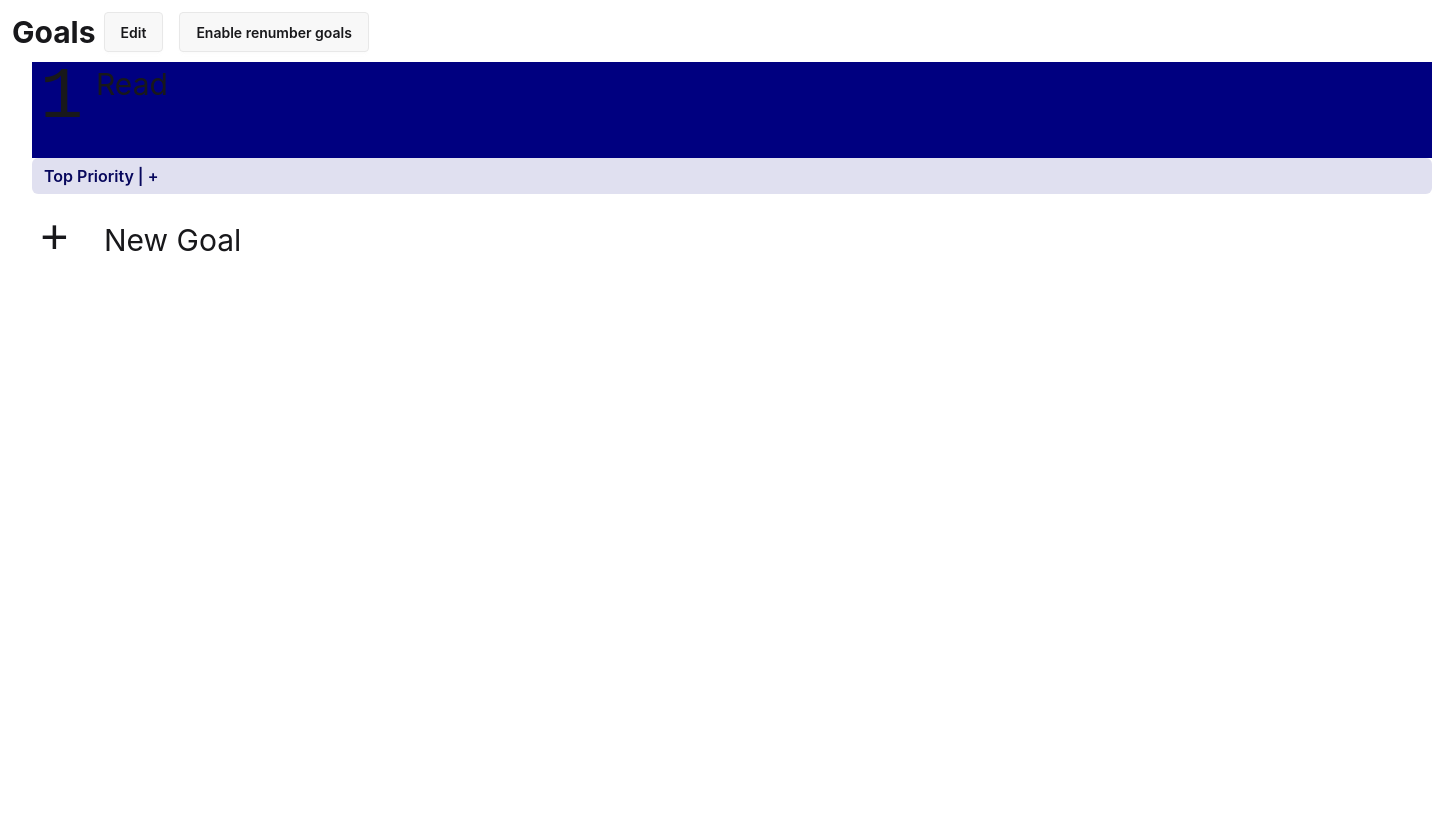
Scenario: creating a goal exits renumber mode and keeps page editing separate
Click the button "Enable renumber goals".
click(274, 32)  # box [179,12,369,52]
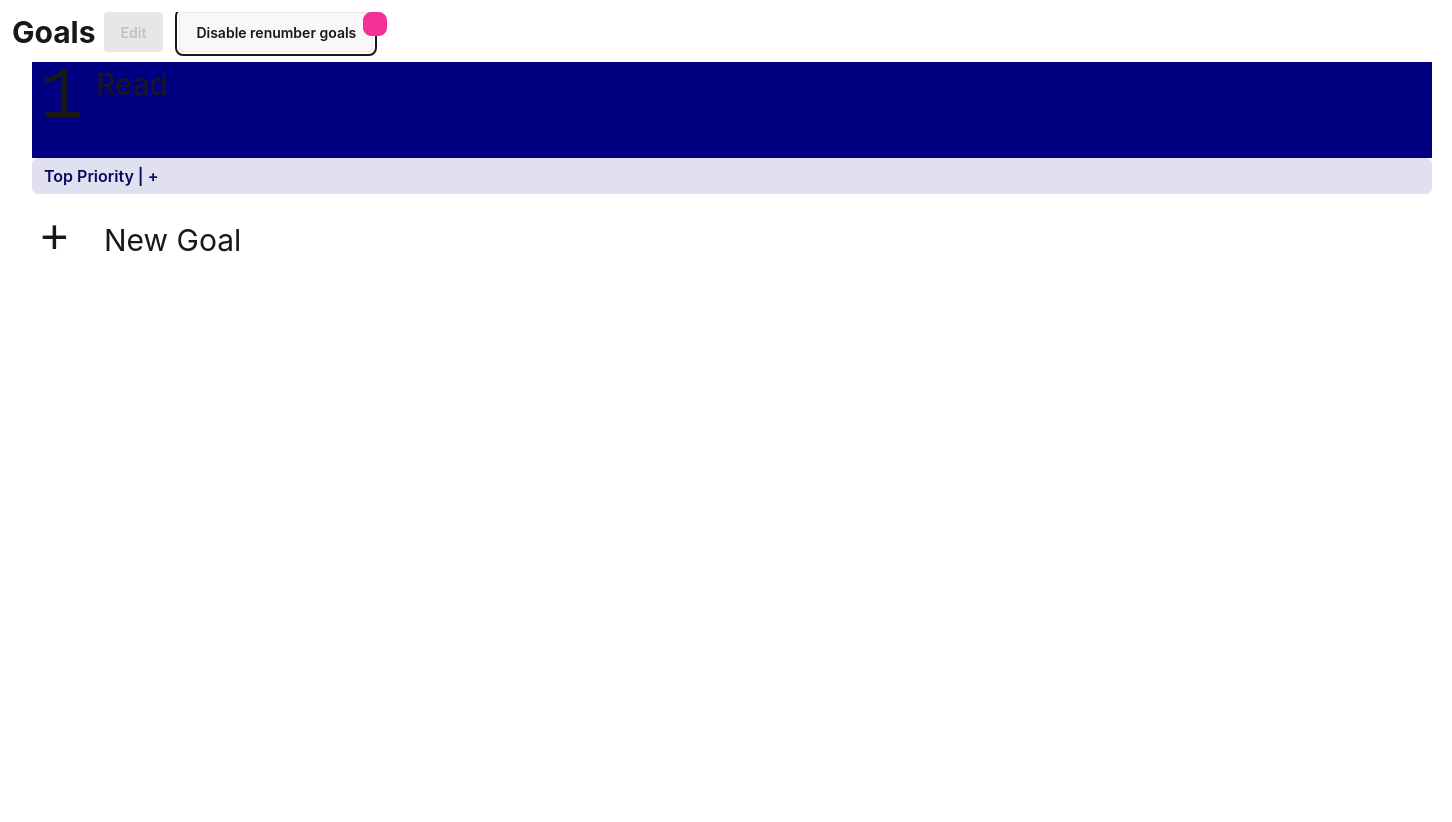
Click the button "+ New Goal".
click(173, 240)  # box [32,204,1432,276]
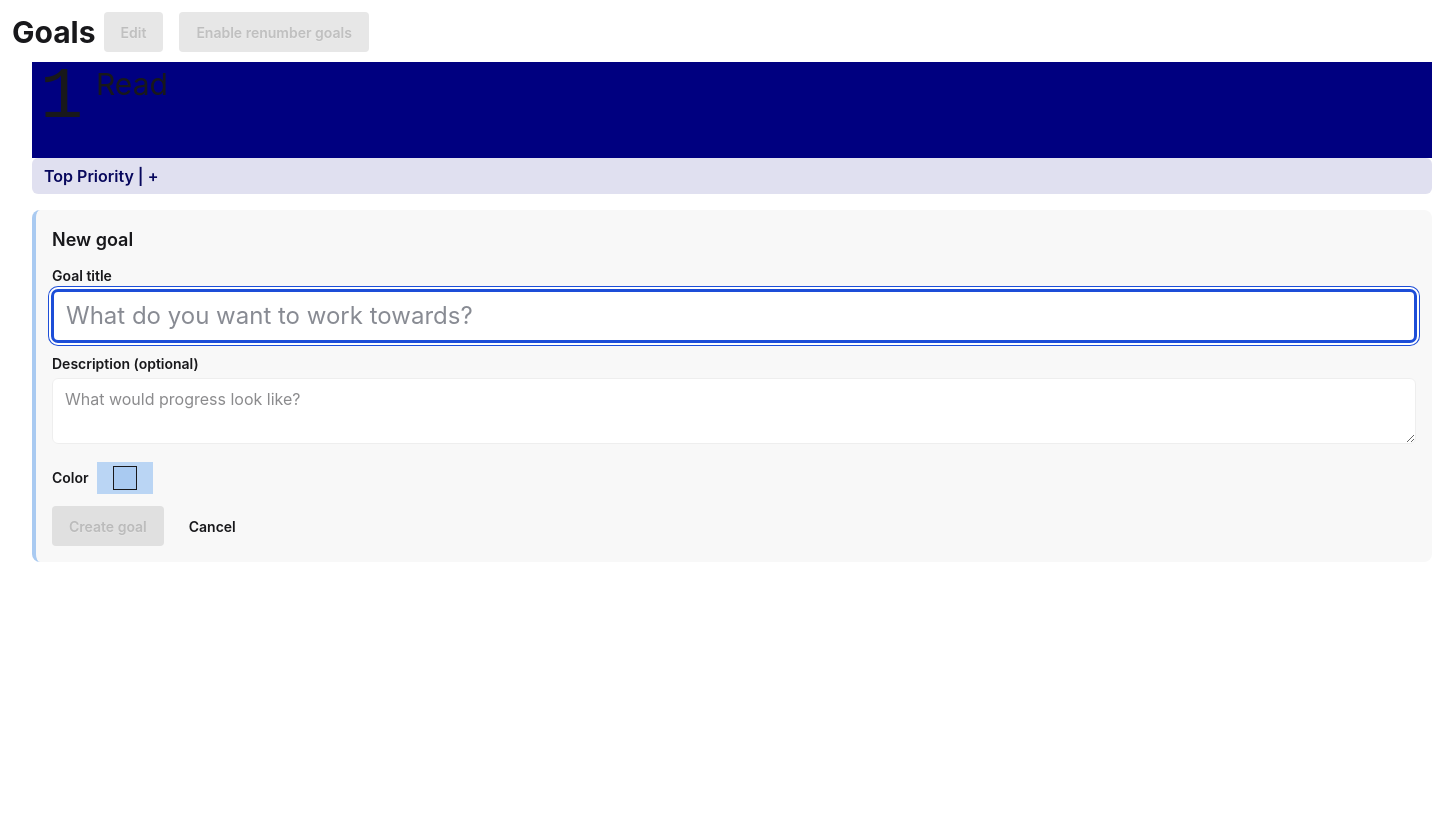
Check: the button "Edit" is disabled, box [104,12,163,52]
Check: the button "Enable renumber goals" is disabled, box [179,12,369,52]
Click the button "Cancel".
click(212, 526)  # box [172,506,253,546]
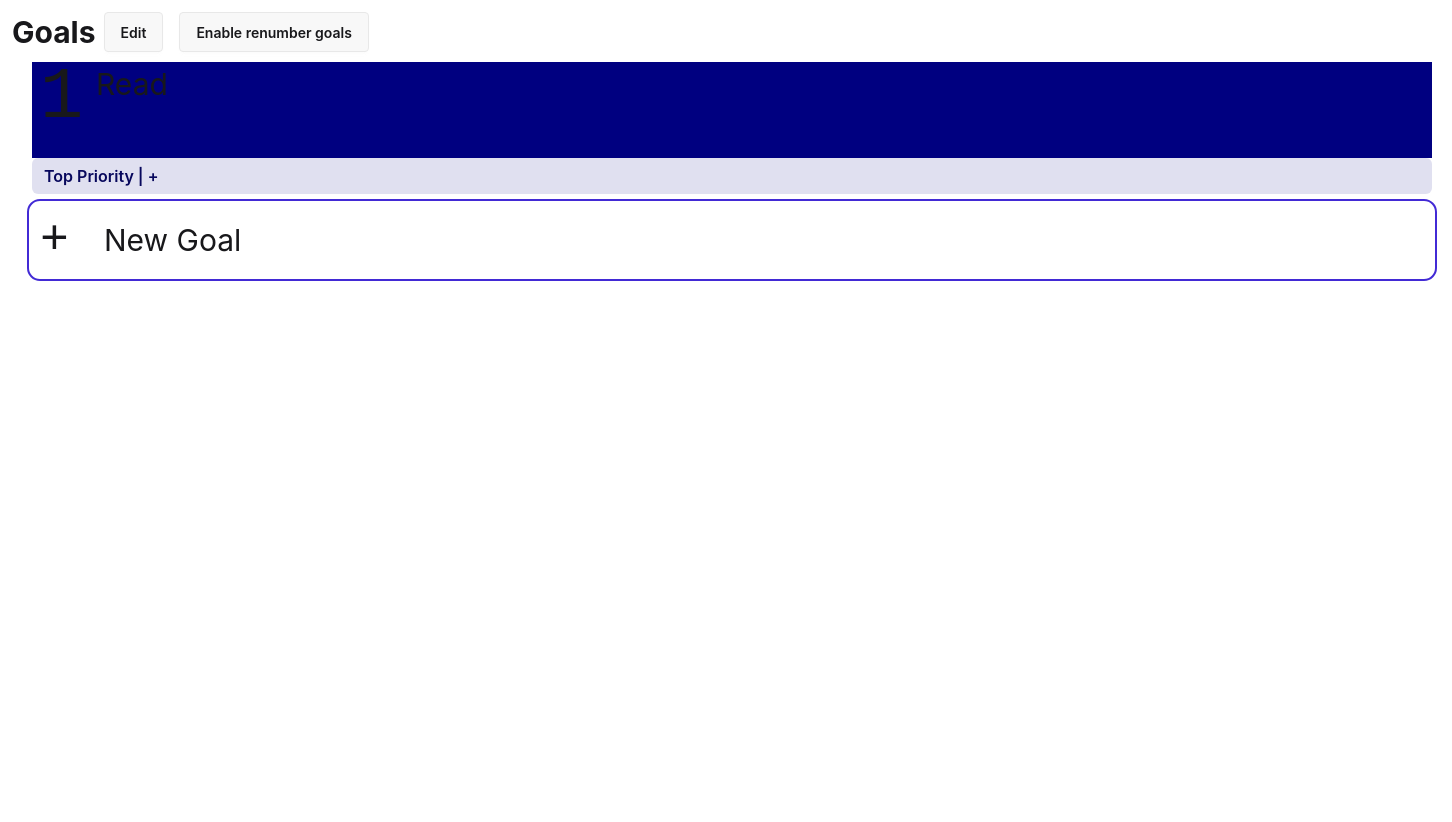
Click the button "Edit".
click(134, 32)  # box [104,12,163,52]
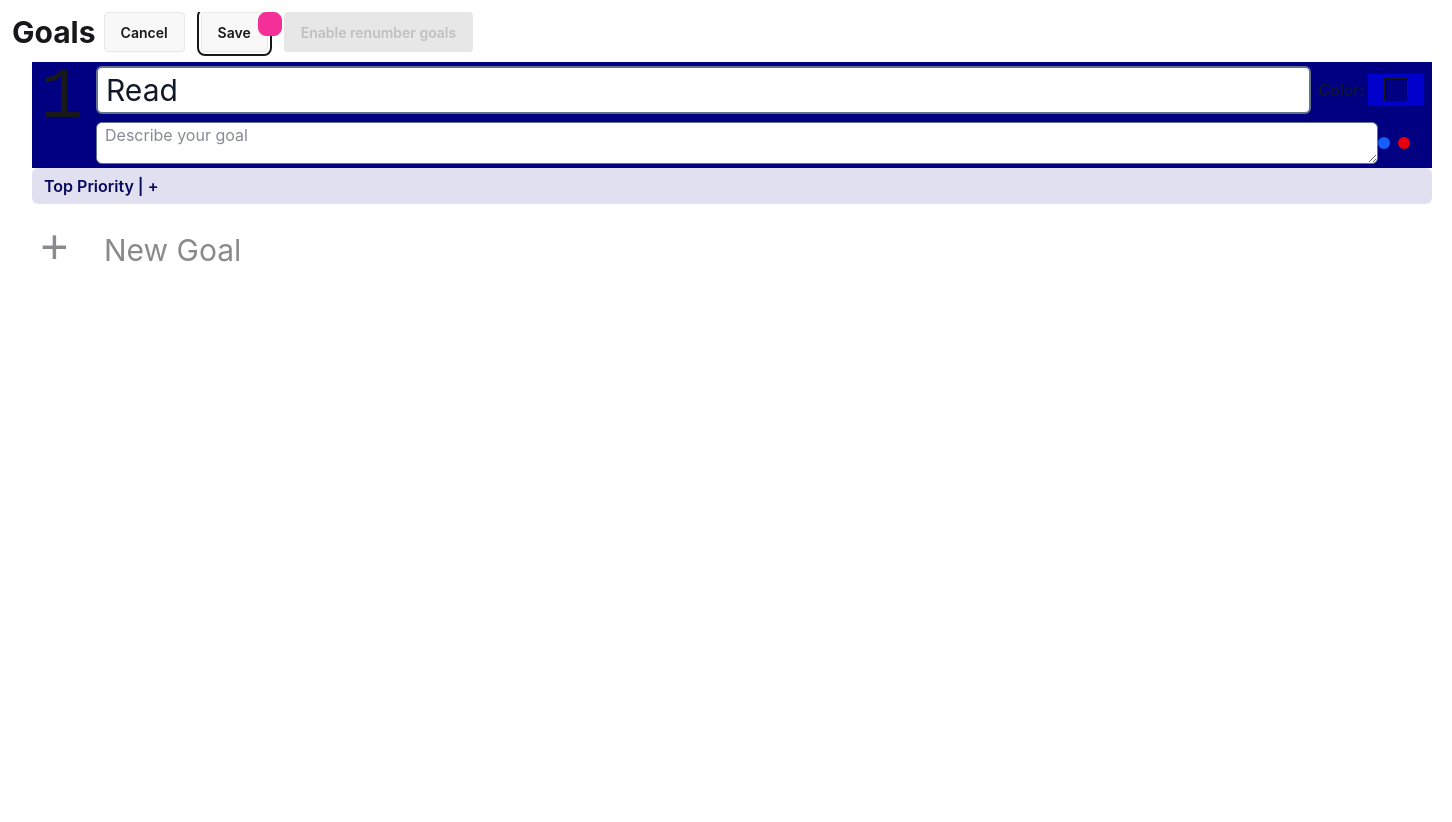
Check: the button "+ New Goal" is disabled, box [32,214,1432,286]
